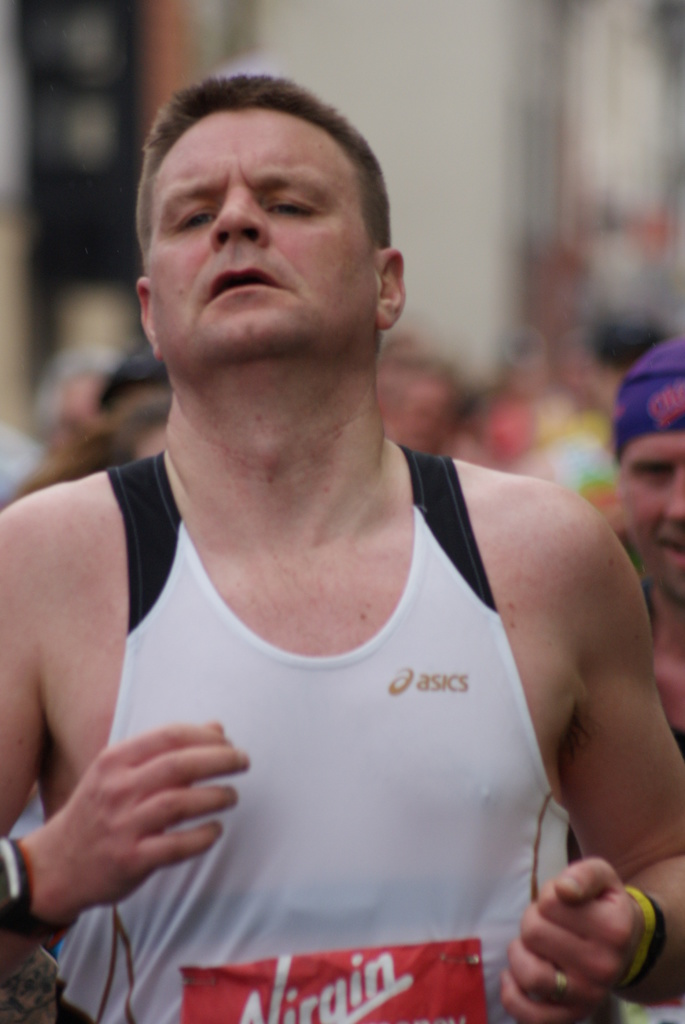Human_hand: (29, 724, 250, 911), (498, 855, 642, 1023)
